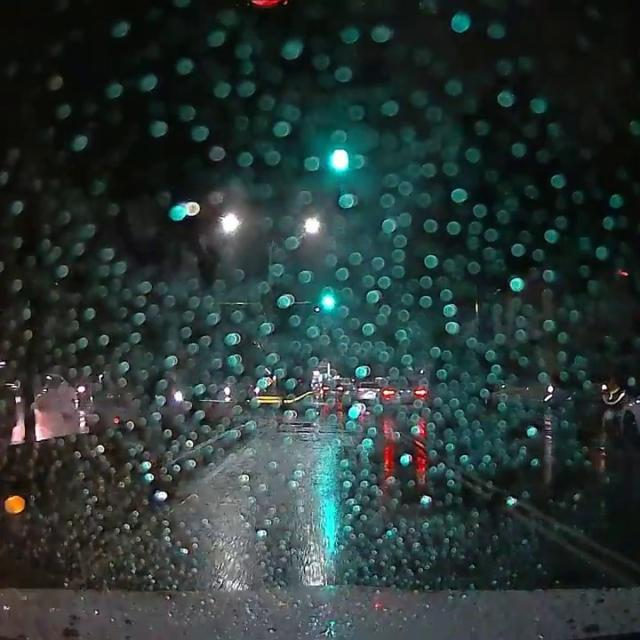Car: (482, 375, 561, 408), (375, 374, 430, 413), (353, 379, 378, 402), (319, 378, 344, 400)
